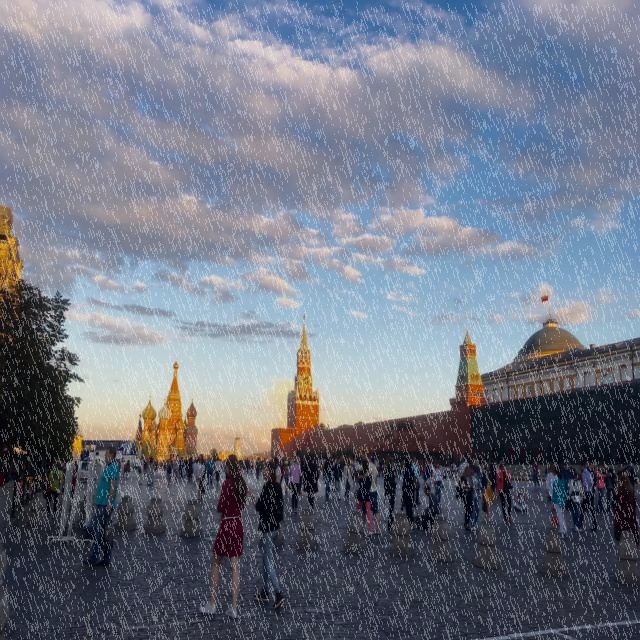pessoa: (196, 452, 249, 620), (245, 460, 287, 612), (77, 442, 121, 568), (612, 474, 640, 550), (549, 462, 575, 540), (359, 452, 382, 535), (352, 458, 374, 537), (576, 460, 599, 534), (454, 464, 478, 532), (400, 456, 420, 534), (381, 454, 399, 532), (466, 462, 486, 532), (154, 450, 194, 484), (495, 458, 514, 526), (286, 452, 306, 515), (44, 460, 64, 520), (300, 452, 320, 511), (566, 470, 584, 534), (420, 483, 442, 532), (479, 461, 494, 524), (600, 461, 618, 512), (448, 456, 481, 480), (272, 454, 290, 495), (593, 460, 606, 514), (190, 455, 204, 500), (237, 456, 263, 480), (410, 456, 422, 507), (619, 460, 638, 492), (64, 458, 78, 501), (432, 459, 444, 507), (332, 456, 344, 502), (341, 458, 353, 500), (322, 452, 332, 502), (196, 453, 206, 503), (512, 486, 530, 513), (114, 454, 132, 480), (487, 457, 497, 497), (530, 458, 542, 491), (372, 455, 388, 479), (330, 454, 339, 492), (136, 452, 146, 486), (146, 454, 156, 488), (351, 456, 363, 484), (204, 456, 214, 488), (213, 456, 222, 488), (590, 460, 597, 501), (422, 458, 432, 484), (562, 459, 572, 484), (312, 456, 327, 472), (394, 460, 406, 480), (217, 458, 227, 474)
